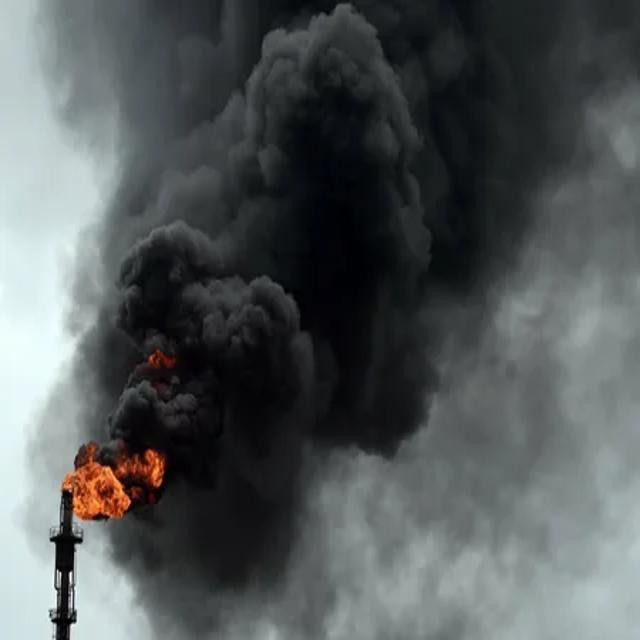Smoke: (66, 0, 498, 595)
